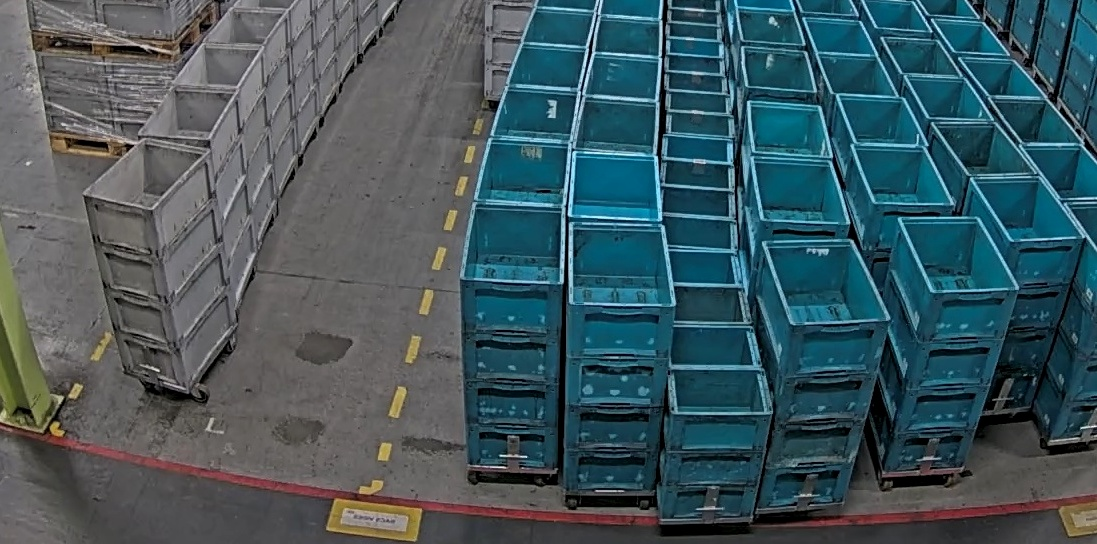4G: (82, 137, 240, 397)
B4: (866, 216, 1021, 477), (750, 238, 894, 514), (559, 222, 675, 496), (960, 175, 1087, 416), (461, 203, 569, 470)
B8: (656, 325, 772, 523)
